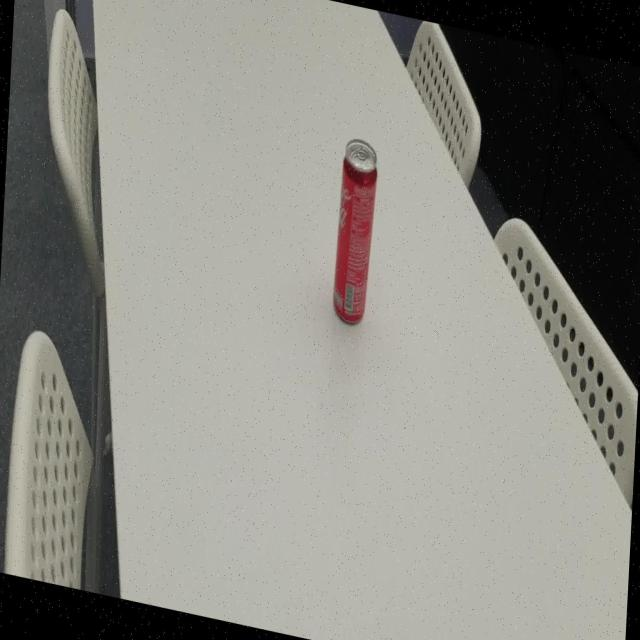coca-cola: (330, 130, 379, 332)
